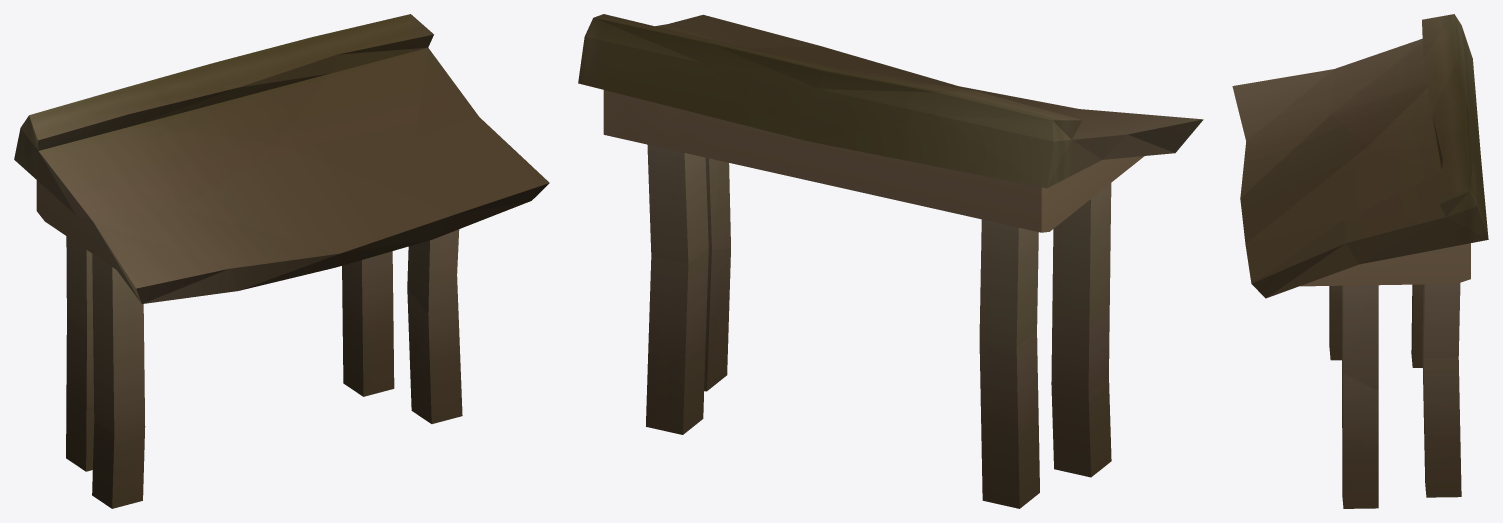
The model's file is log_storage.glb.
3 renders of one model, left to right at view 1: azimuth 30°, elevation 25°; view 2: azimuth 150°, elevation 25°; view 3: azimuth 270°, elevation 25°, orthographic. The views are drawn at different scales.
Parts seen in each view (by area): view 1: log_storage; view 2: log_storage; view 3: log_storage.
Part boxes in pixels (bbox=[...]): log_storage: bbox=[14, 14, 549, 508]; log_storage: bbox=[578, 14, 1203, 508]; log_storage: bbox=[1232, 14, 1488, 508].
Size of the model in its own units: 1.9 by 1.5 by 1.07.
Materials: 1 (1 with a texture image).
